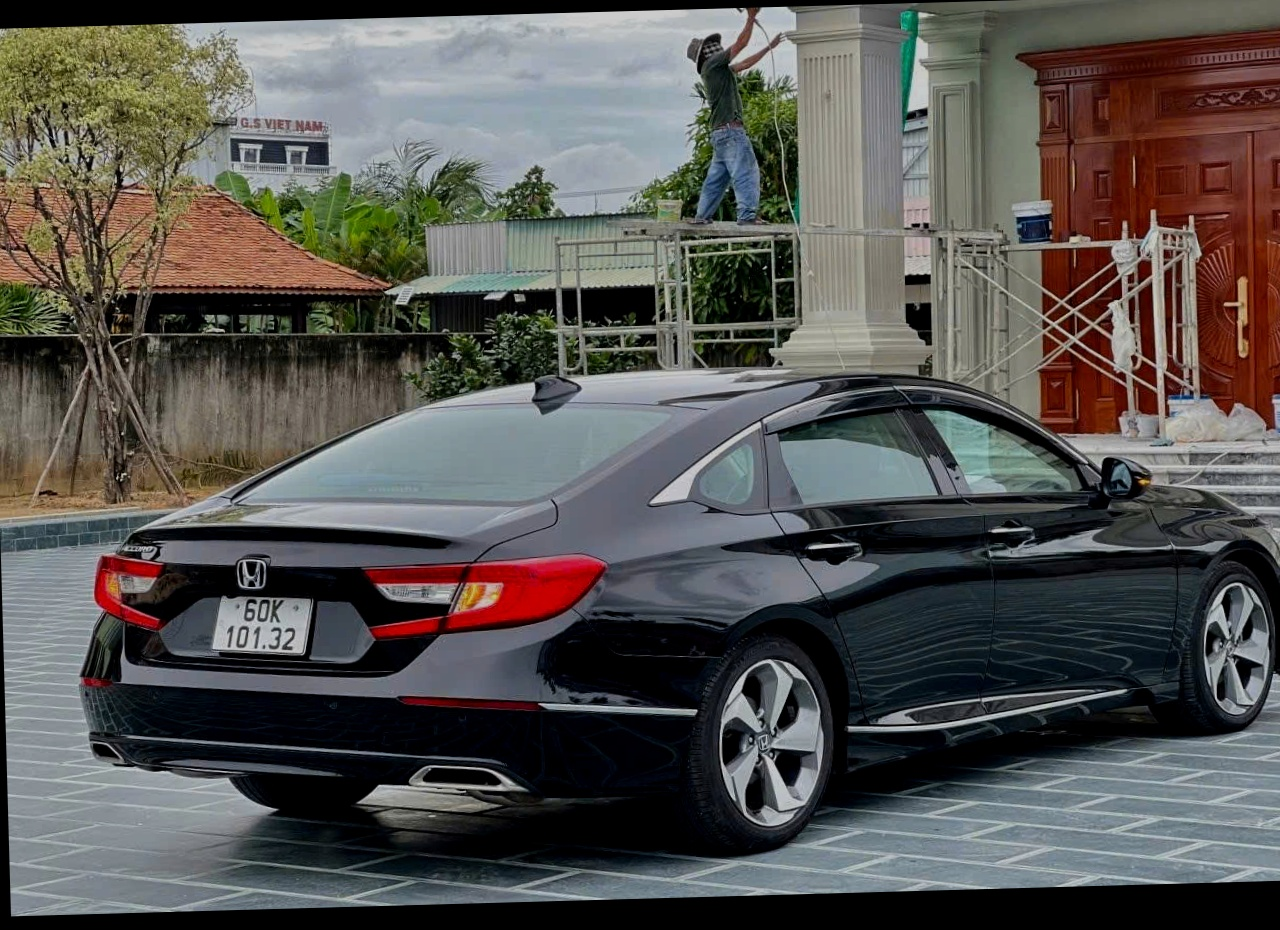Bien-so: (201, 590, 311, 658)
